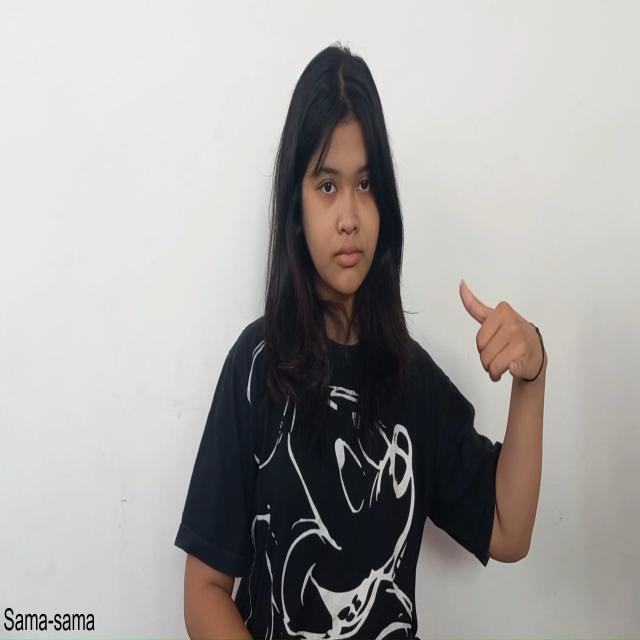Sama-sama -BISINDO-: (457, 274, 550, 387)
